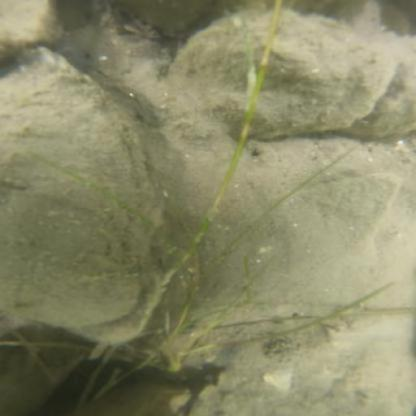3: (0, 67, 165, 346)
Oyster-Open: (254, 11, 385, 137), (156, 8, 275, 137), (204, 343, 414, 414), (351, 64, 411, 136)
